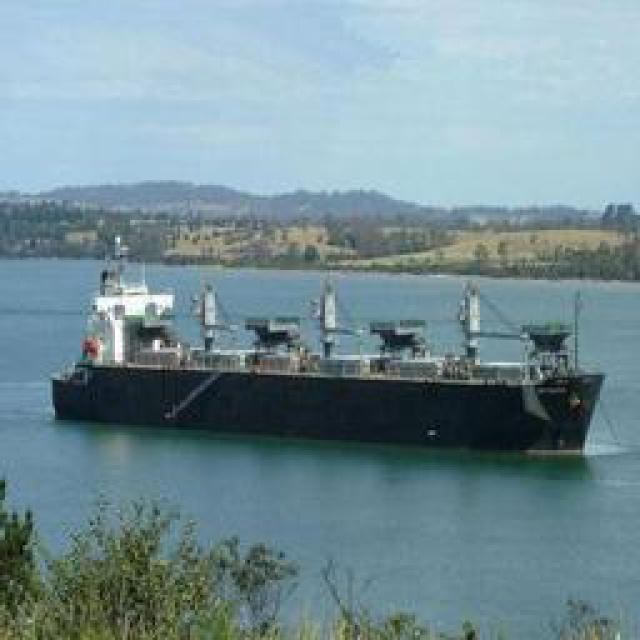Ship: (23, 265, 608, 450)
